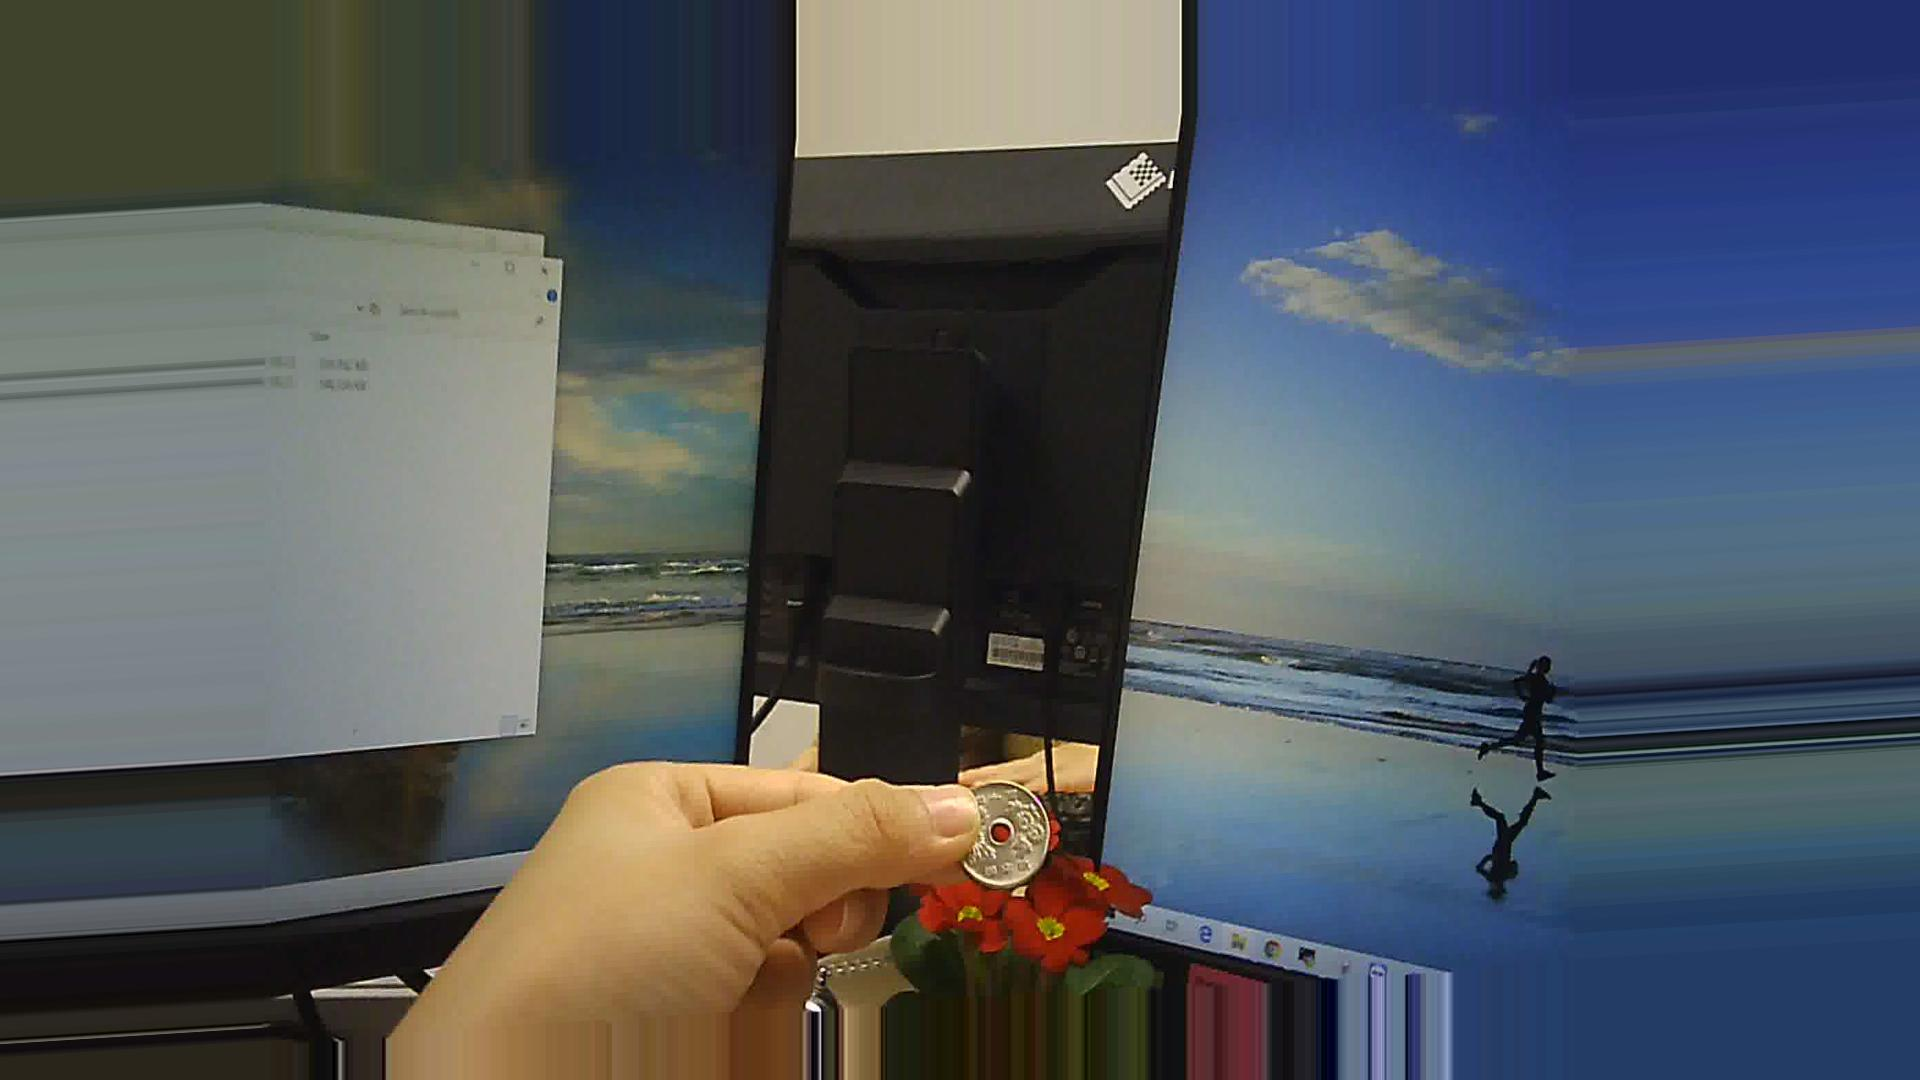50 Yen: (942, 771, 1064, 891)
